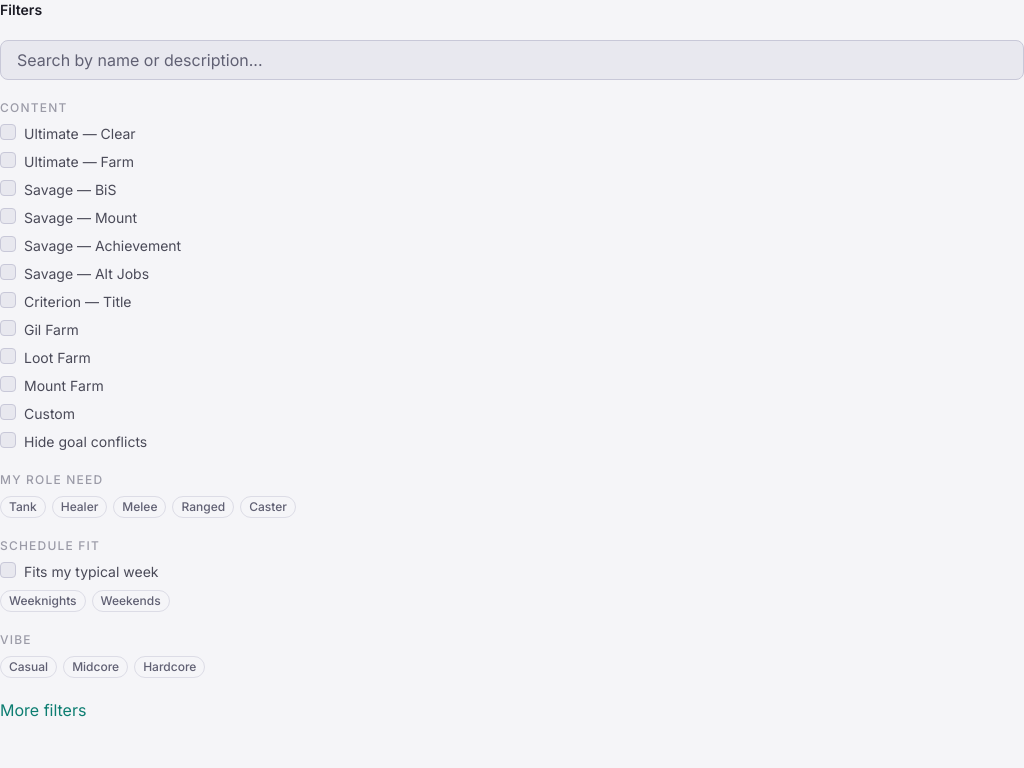
Test: FinderFilters › More filters starts collapsed (aria-expanded="false") and expands to reveal the extra selects
The width and height of the screenshot is (1024, 768).
Click the button "More filters". click: {"x": 43, "y": 710}
box: x1=0 y1=698 x2=86 y2=722
(page scrolled)
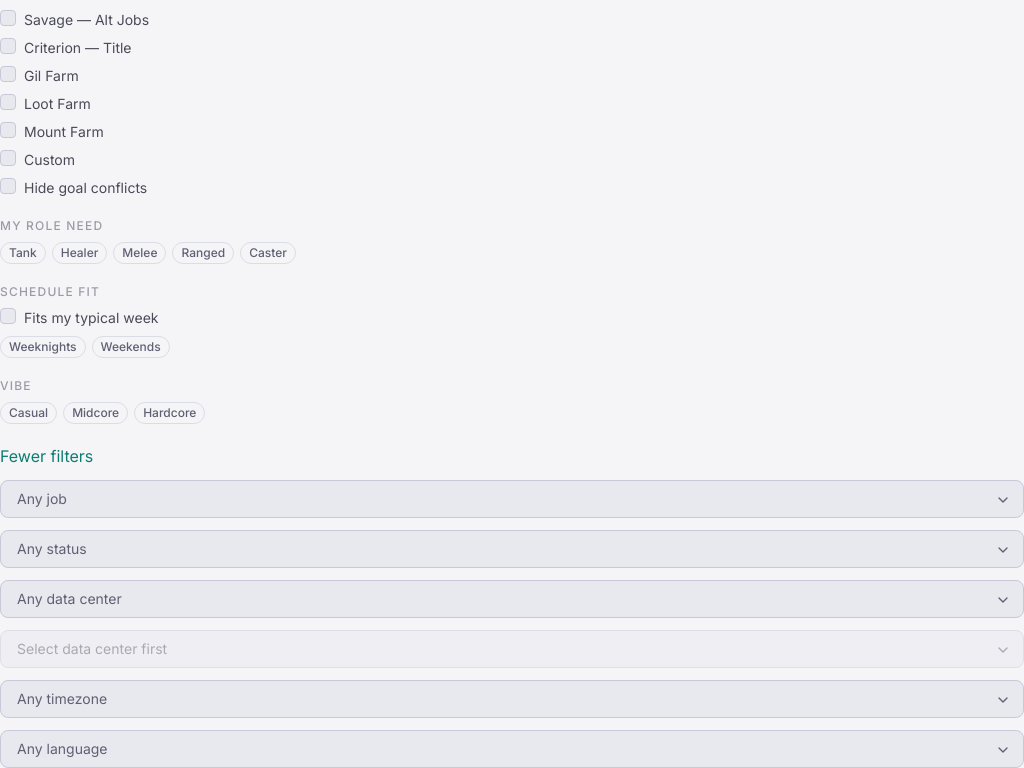
expect the button "Fewer filters" is expanded: met, box x1=0 y1=444 x2=93 y2=468
expect the dropdown labelled "job" is shown: met, box x1=0 y1=480 x2=1023 y2=518
expect the dropdown named "Recruitment status" is shown: met, box x1=0 y1=530 x2=1023 y2=568
